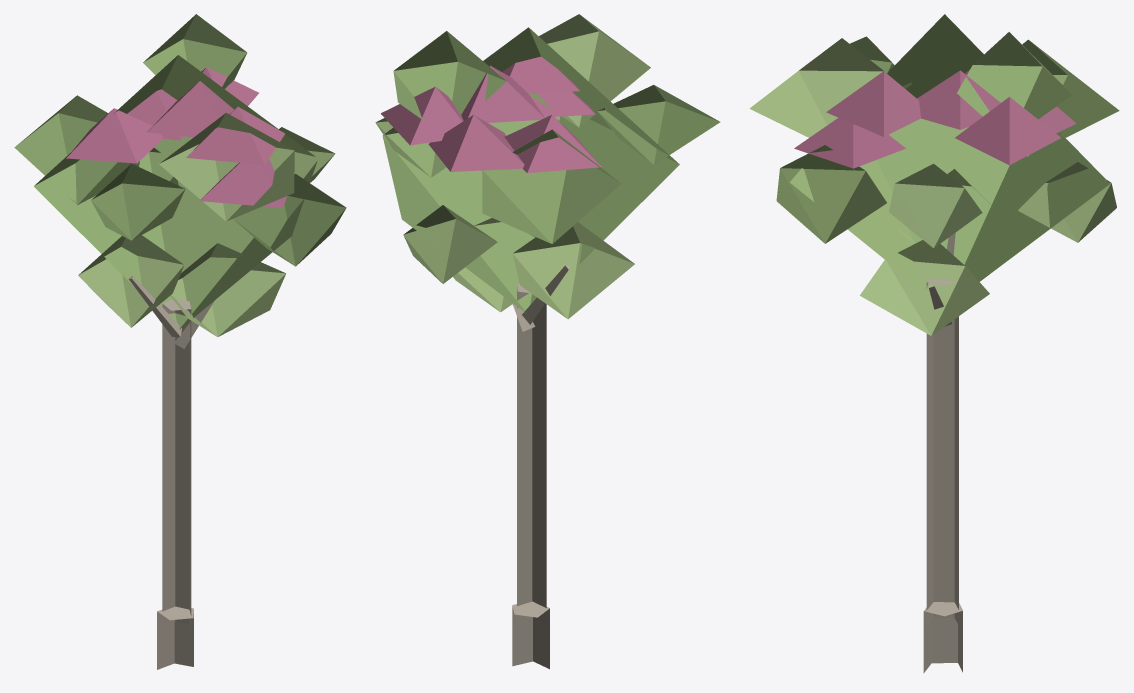
File: tree.temp.birch__bloom.glb
3 views of the same model, side by side, from view 1: azimuth 30°, elevation 25°; view 2: azimuth 150°, elevation 25°; view 3: azimuth 270°, elevation 25° (orthographic). The views are drawn at different scales.
Visible parts, largest first — view 1: tree.temp.birch__bloom; view 2: tree.temp.birch__bloom; view 3: tree.temp.birch__bloom.
Part boxes in pixels (box(x1,y1,x2,y2)): tree.temp.birch__bloom: box(14, 14, 346, 669); tree.temp.birch__bloom: box(375, 14, 720, 669); tree.temp.birch__bloom: box(749, 14, 1119, 673).
Bounding box in the file's own units: 7.2 × 15.29 × 7.73.
